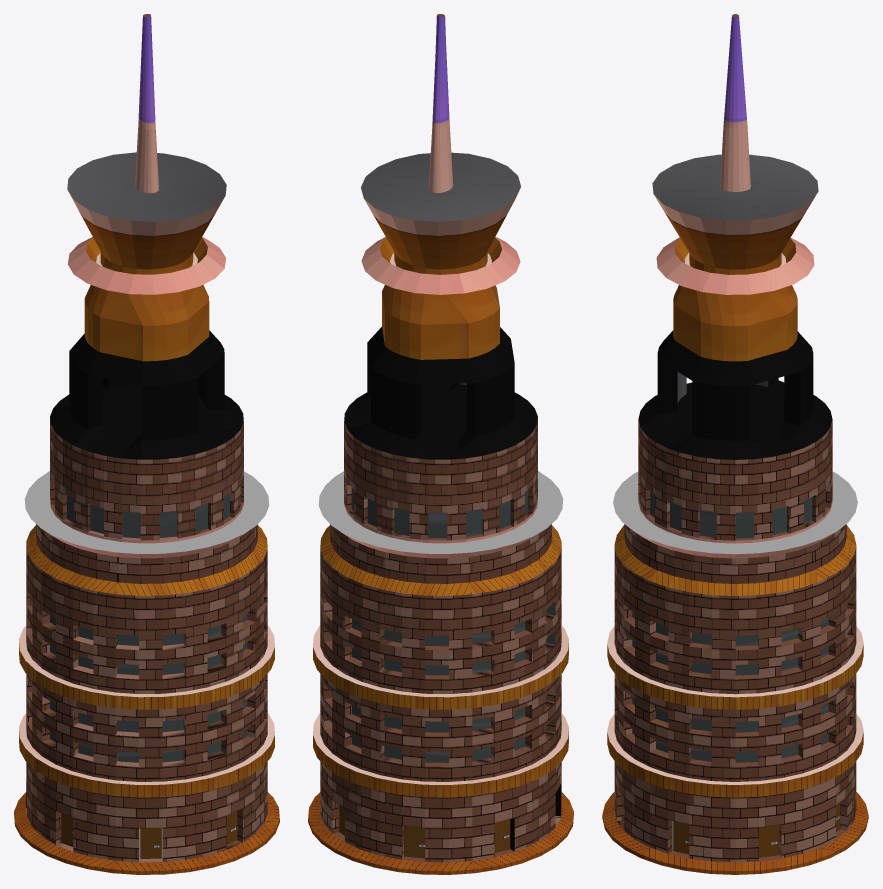
The model's file is Level3Skyscraper2Textured.fbx.
The picture shows the model from 3 angles, left to right: view 1: azimuth 30°, elevation 25°; view 2: azimuth 150°, elevation 25°; view 3: azimuth 270°, elevation 25°; orthographic projection.
Visible parts, largest first — view 1: Cylinder; view 2: Cylinder; view 3: Cylinder.
Boxes of the visible parts, x1,y1,x2,y2 form: Cylinder: (14,14,279,874); Cylinder: (308,14,573,874); Cylinder: (602,14,868,874).
Size of the model in its own units: 220 by 732 by 220.
